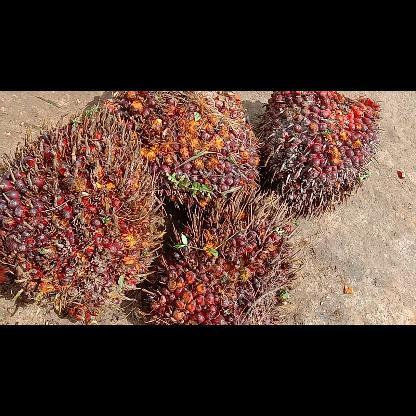TBS masak: (0, 102, 165, 325), (142, 188, 302, 324), (103, 90, 263, 208), (255, 90, 383, 220)
